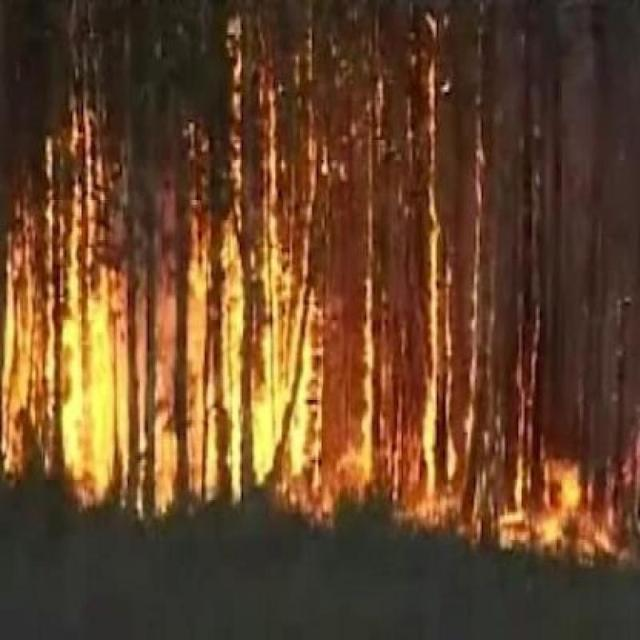Fire: (8, 89, 462, 544)
